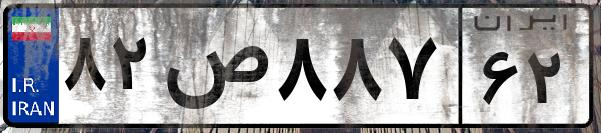2: (525, 38, 570, 115), (110, 28, 158, 98)
6: (475, 38, 525, 113)
7: (385, 28, 445, 110)
8: (270, 28, 330, 110), (330, 28, 385, 110), (57, 26, 110, 100)
ص: (158, 20, 270, 120)
